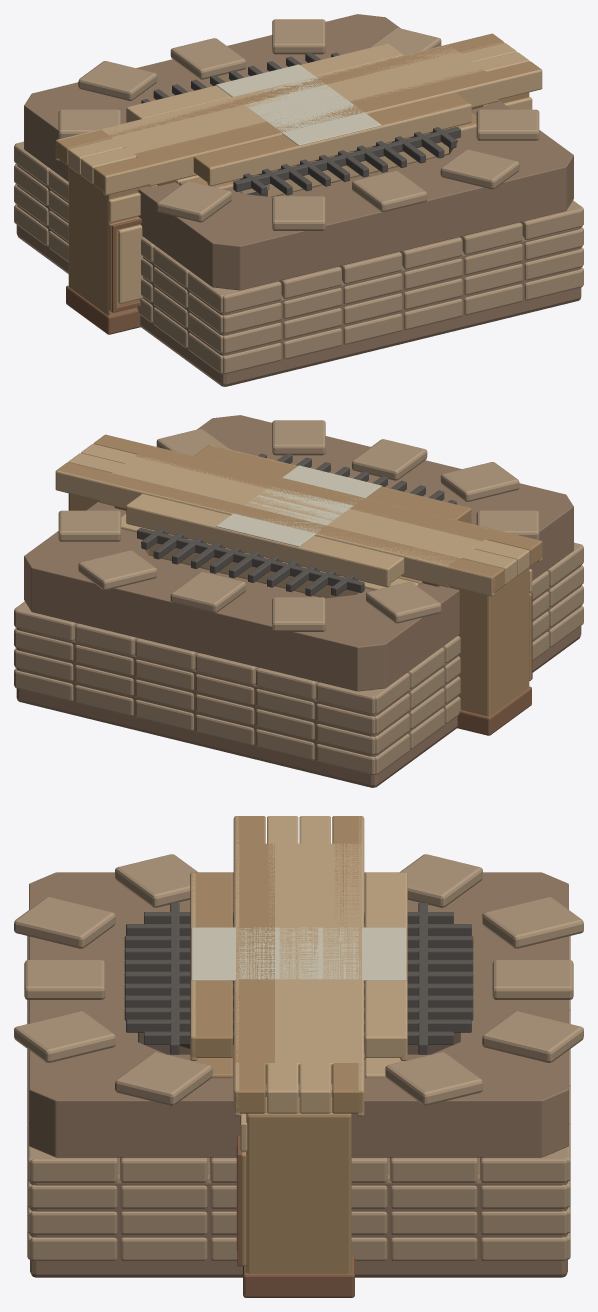
The model's file is frontier-shop-fixtures.glb.
3 renders of one model, top to bottom at view 1: azimuth 30°, elevation 25°; view 2: azimuth 150°, elevation 25°; view 3: azimuth 270°, elevation 25°, orthographic. The views are drawn at different scales.
Visible parts, largest first — view 1: Frontier dressed sandstone, Frontier dark sandstone at hearth, Frontier crossed oak, Frontier worn oak countertop, Frontier worn oak countertop.001, Frontier worn oak countertop.002, Chapel unbleached linen runner, Frontier blackened iron fitting.001, Frontier crossed oak.001, Frontier crossed oak.002, Frontier walnut edge, Frontier worn oak countertop.003 (+1 smaller); view 2: Frontier dressed sandstone, Frontier dark sandstone at hearth, Frontier crossed oak, Frontier worn oak countertop, Frontier worn oak countertop.002, Frontier worn oak countertop.001, Frontier blackened iron fitting.001, Chapel unbleached linen runner, Frontier crossed oak.002, Frontier crossed oak.001, Frontier worn oak countertop.003, Frontier walnut edge; view 3: Frontier dressed sandstone, Frontier dark sandstone at hearth, Frontier crossed oak, Frontier worn oak countertop.001, Frontier blackened iron fitting.001, Frontier worn oak countertop, Chapel unbleached linen runner, Frontier crossed oak.001, Frontier worn oak countertop.002, Frontier crossed oak.002, Frontier walnut edge, Frontier ash and charcoal.
Boxes of the visible parts, x1=… form: Frontier dressed sandstone: x1=14, y1=19, x2=583, y2=374; Frontier dark sandstone at hearth: x1=16, y1=14, x2=581, y2=386; Frontier crossed oak: x1=55, y1=33, x2=541, y2=315; Frontier worn oak countertop: x1=55, y1=33, x2=542, y2=303; Frontier worn oak countertop.001: x1=101, y1=44, x2=498, y2=186; Frontier worn oak countertop.002: x1=126, y1=43, x2=471, y2=186; Chapel unbleached linen runner: x1=216, y1=64, x2=381, y2=145; Frontier blackened iron fitting.001: x1=141, y1=52, x2=460, y2=195; Frontier crossed oak.001: x1=135, y1=69, x2=496, y2=186; Frontier crossed oak.002: x1=193, y1=93, x2=471, y2=182; Frontier walnut edge: x1=66, y1=218, x2=141, y2=334; Frontier worn oak countertop.003: x1=175, y1=123, x2=476, y2=197; Frontier dressed sandstone: x1=14, y1=420, x2=583, y2=775; Frontier dark sandstone at hearth: x1=16, y1=415, x2=581, y2=787; Frontier crossed oak: x1=56, y1=434, x2=542, y2=716; Frontier worn oak countertop: x1=55, y1=434, x2=542, y2=596; Frontier worn oak countertop.002: x1=126, y1=445, x2=471, y2=587; Frontier worn oak countertop.001: x1=99, y1=445, x2=494, y2=587; Frontier blackened iron fitting.001: x1=137, y1=453, x2=456, y2=596; Chapel unbleached linen runner: x1=216, y1=465, x2=381, y2=546; Frontier crossed oak.002: x1=194, y1=444, x2=471, y2=523; Frontier crossed oak.001: x1=134, y1=446, x2=494, y2=540; Frontier worn oak countertop.003: x1=121, y1=513, x2=418, y2=598; Frontier walnut edge: x1=457, y1=592, x2=532, y2=735; Frontier dressed sandstone: x1=14, y1=854, x2=583, y2=1260; Frontier dark sandstone at hearth: x1=29, y1=872, x2=568, y2=1277; Frontier crossed oak: x1=234, y1=816, x2=363, y2=1273; Frontier worn oak countertop.001: x1=233, y1=843, x2=364, y2=1084; Frontier blackened iron fitting.001: x1=124, y1=903, x2=473, y2=1054; Frontier worn oak countertop: x1=233, y1=816, x2=364, y2=1251; Chapel unbleached linen runner: x1=191, y1=927, x2=406, y2=980; Frontier crossed oak.001: x1=235, y1=843, x2=274, y2=1084; Frontier worn oak countertop.002: x1=190, y1=872, x2=407, y2=1060; Frontier crossed oak.002: x1=191, y1=872, x2=232, y2=1057; Frontier walnut edge: x1=237, y1=1136, x2=354, y2=1297; Frontier ash and charcoal: x1=138, y1=1032, x2=459, y2=1054.
Size of the model in its own units: 3 by 1.1 by 2.62.
